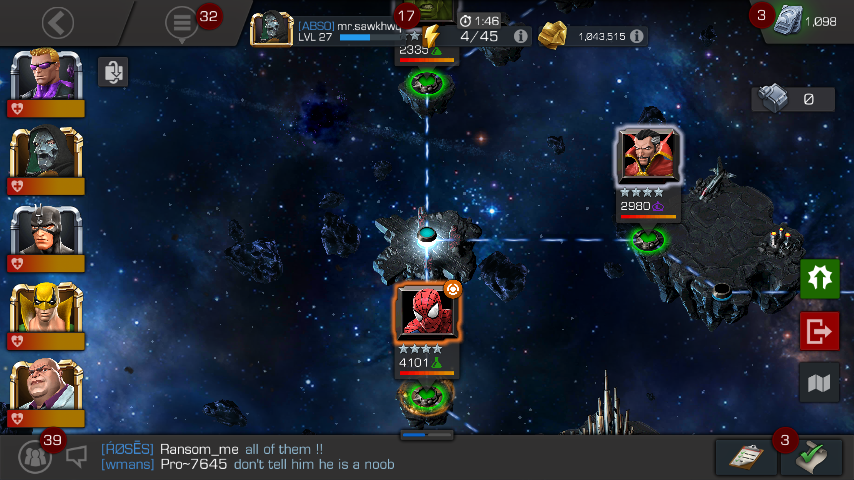green: (414, 387, 439, 405), (415, 73, 438, 90), (638, 231, 659, 246)
